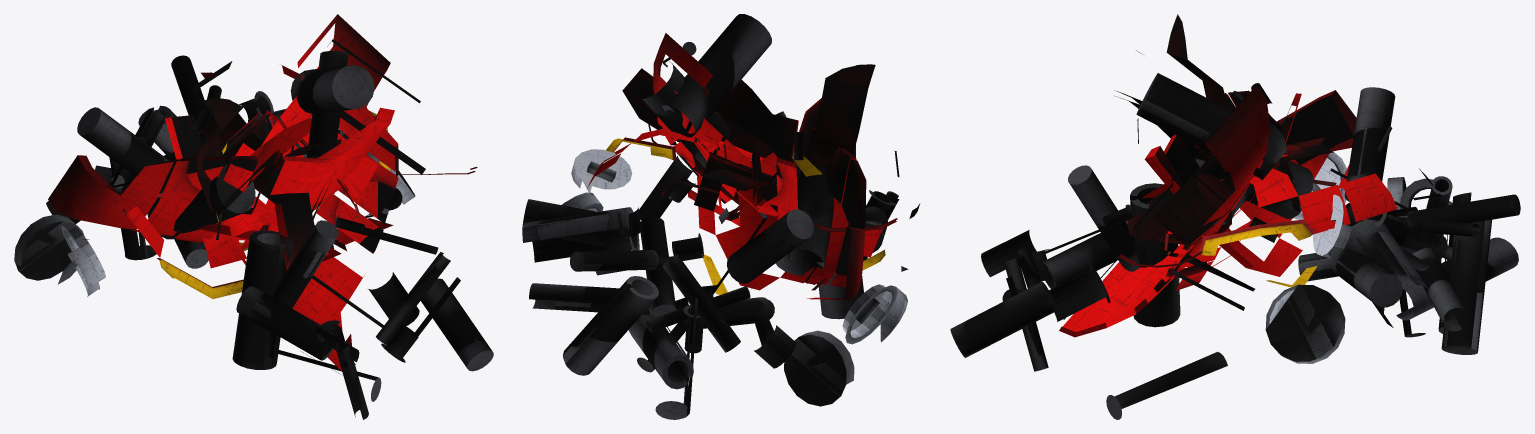
File: MonsterA2_die15.obj
3 renders of one model, left to right at view 1: azimuth 30°, elevation 25°; view 2: azimuth 150°, elevation 25°; view 3: azimuth 270°, elevation 25°, orthographic. The views are drawn at different scales.
Visible parts, largest first — view 1: Box001; view 2: Box001; view 3: Box001.
Part boxes in pixels (box(x1,y1,x2,y2)): Box001: box(14, 14, 493, 419); Box001: box(522, 14, 920, 419); Box001: box(950, 14, 1520, 419).
Bounding box in the file's own units: 294 × 264 × 390.
Materials: 1 (1 with a texture image).
